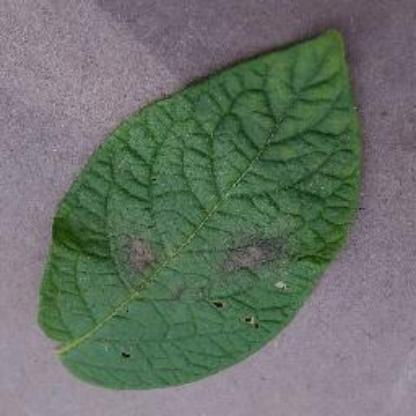Late-Blight: (14, 6, 384, 386)
